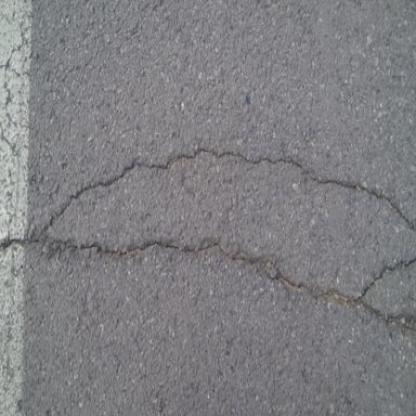Cracks: (0, 145, 415, 339)
